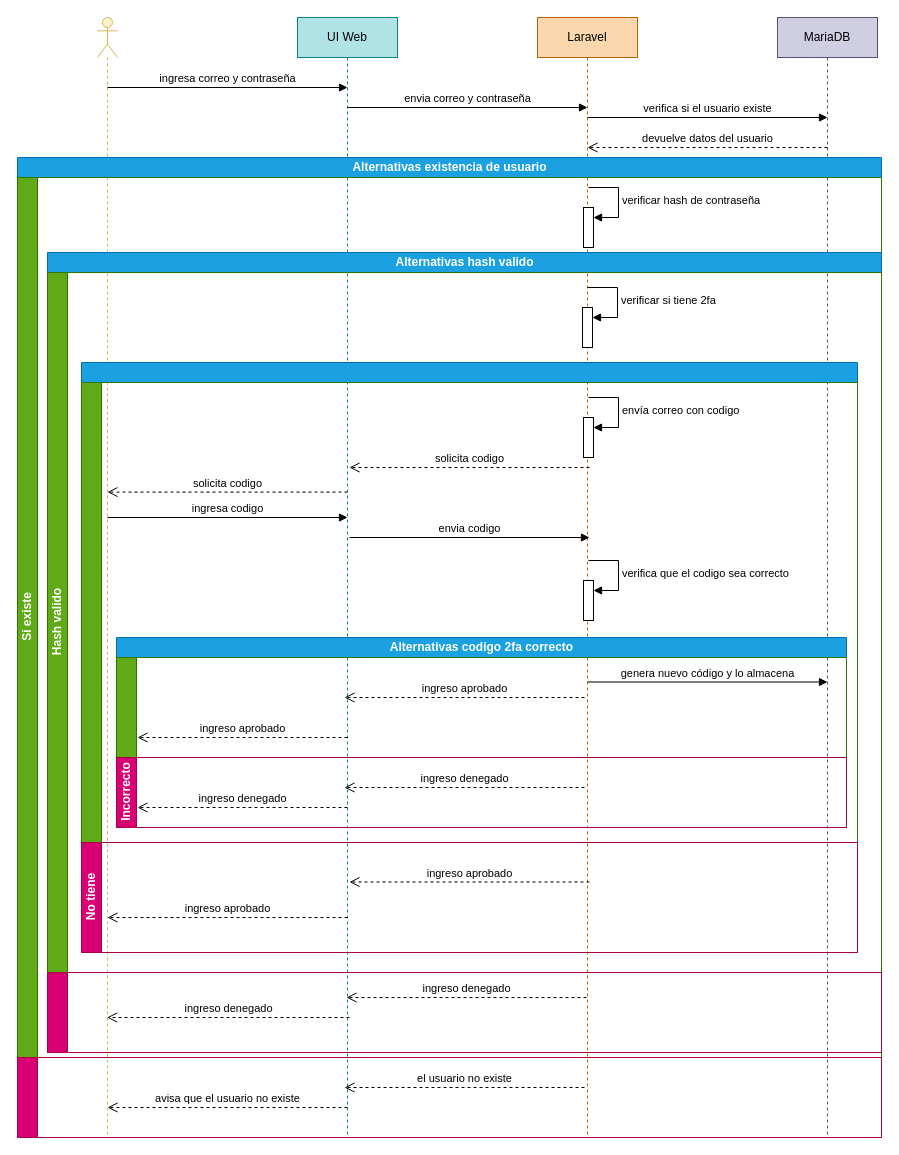
The diagram is 899 pixels wide and 1155 high, and some of its shapes have lost their labels. The shapes that lost their labels are listed below. From the top down, each one's box as (x1, y1, x2, y2) in pixels, then its label:
(80, 382, 858, 842): Si tiene
(80, 362, 858, 952): Alternativas tiene 2fa
(116, 656, 846, 758): Corecto
(46, 972, 882, 1052): Hash invalido
(16, 1056, 882, 1138): No existe
